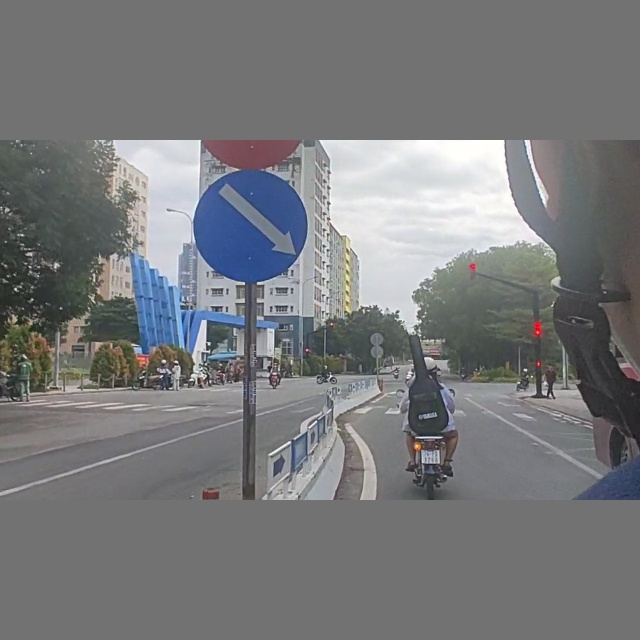R.302a: (191, 168, 319, 284)
